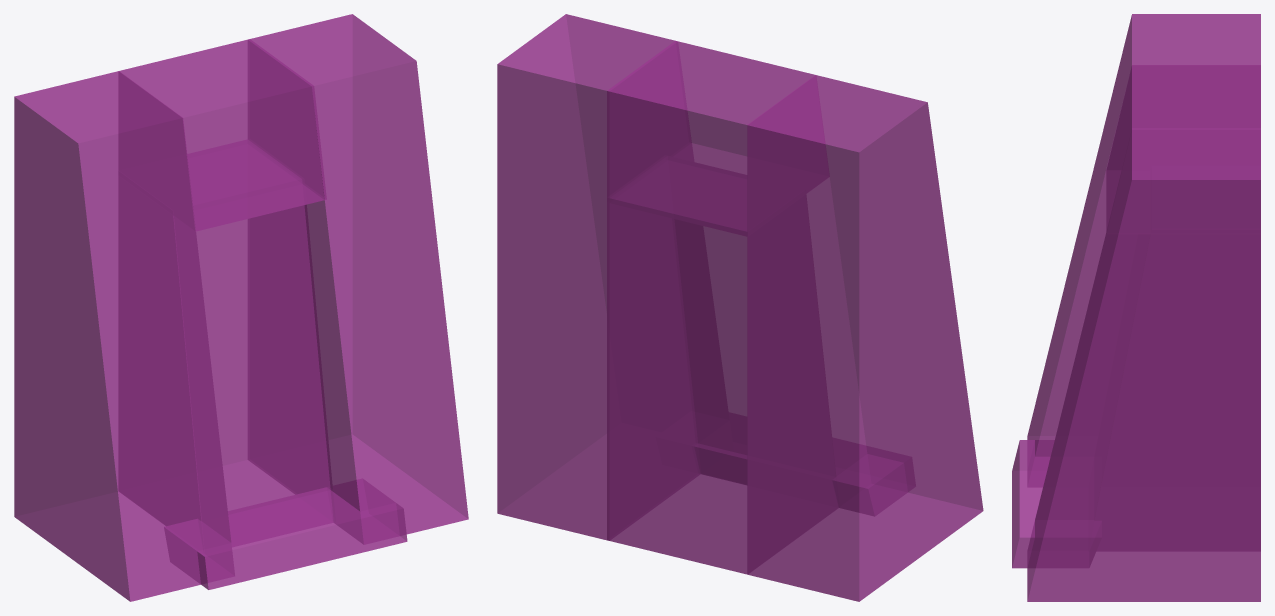
File: SM_Bld_Wall_Fort_Ground_02_Collision.fbx
The picture shows the model from 3 angles, left to right: view 1: azimuth 30°, elevation 25°; view 2: azimuth 150°, elevation 25°; view 3: azimuth 270°, elevation 25°; orthographic projection. The views are drawn at different scales.
Parts seen in each view (by area): view 1: SM_Bld_Wall_Fort_Ground_02_Collision; view 2: SM_Bld_Wall_Fort_Ground_02_Collision; view 3: SM_Bld_Wall_Fort_Ground_02_Collision.
Boxes of the visible parts, bbox=[...] form: SM_Bld_Wall_Fort_Ground_02_Collision: bbox=[14, 14, 468, 601]; SM_Bld_Wall_Fort_Ground_02_Collision: bbox=[497, 14, 983, 601]; SM_Bld_Wall_Fort_Ground_02_Collision: bbox=[1012, 14, 1260, 601].
Bounding box in the file's own units: 507 × 602 × 321.
